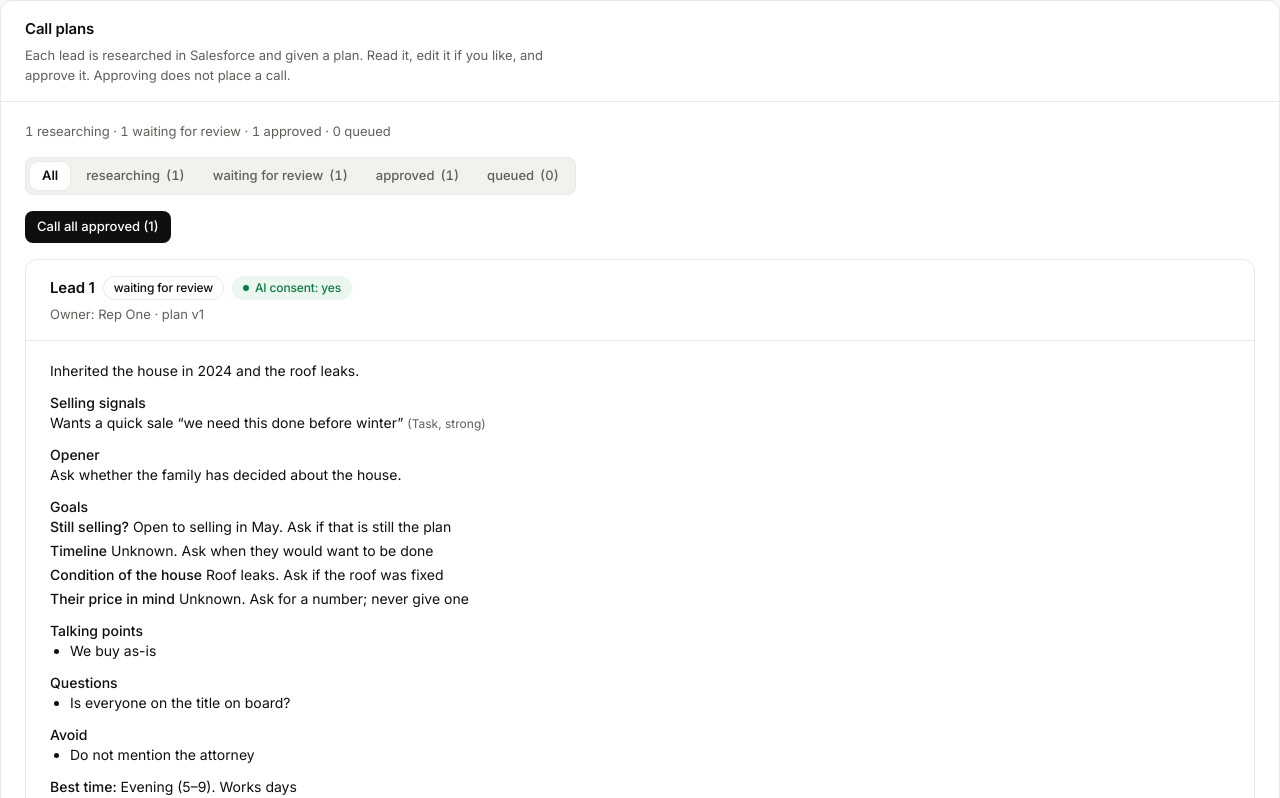
Test: CallPlanBoard › 8a: a release that stopped at its cap says more approved leads are waiting
The width and height of the screenshot is (1280, 798).
Click the button "Call all approved (1)". click: [98, 227]
box: [25, 211, 170, 243]
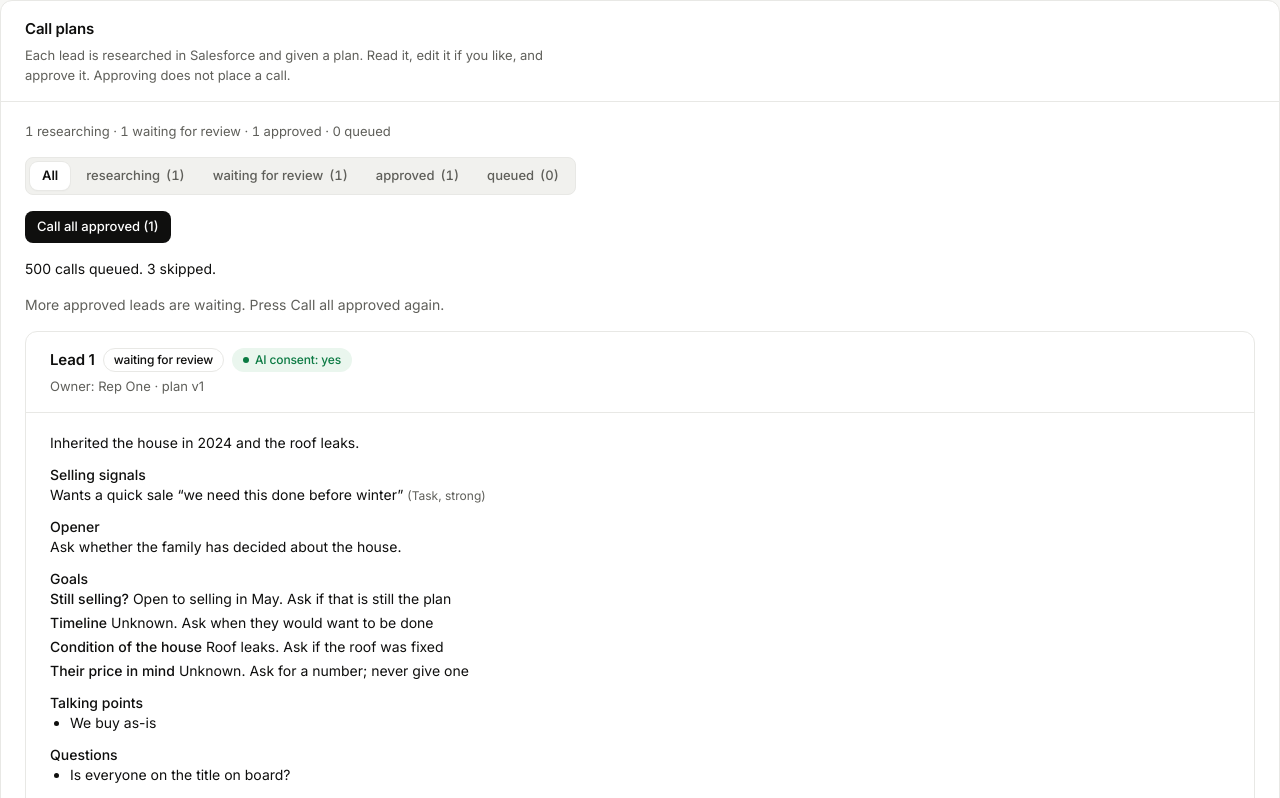
Now the text "500 calls queued. 3 skipped." is shown, box [25, 260, 216, 277]
Now the text "More approved leads are waiting. Press Call all approved again." is shown, box [25, 296, 444, 313]
